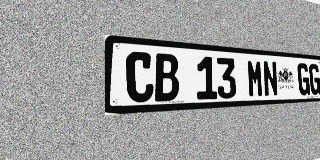1: (196, 56, 217, 100)
3: (217, 57, 236, 99)
B: (154, 53, 179, 102)
C: (126, 51, 154, 103)
G: (297, 63, 310, 95), (309, 64, 320, 95)
M: (247, 59, 264, 98)
N: (262, 60, 278, 97)
